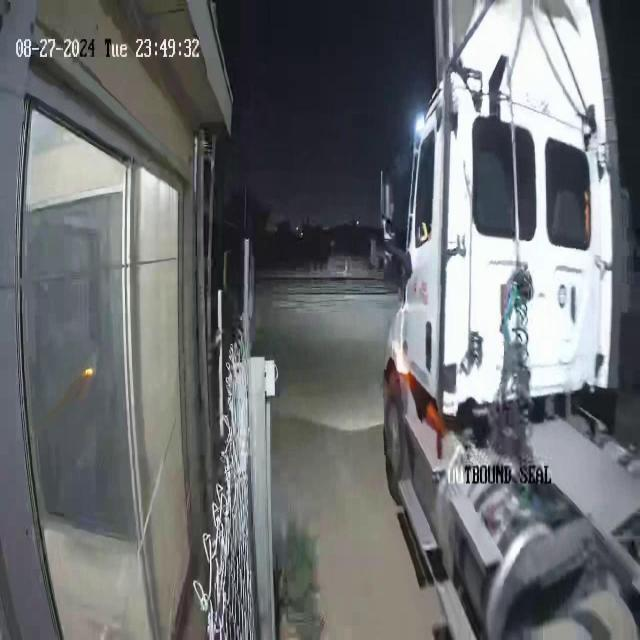TRUCK_OUT: (374, 2, 637, 640)
